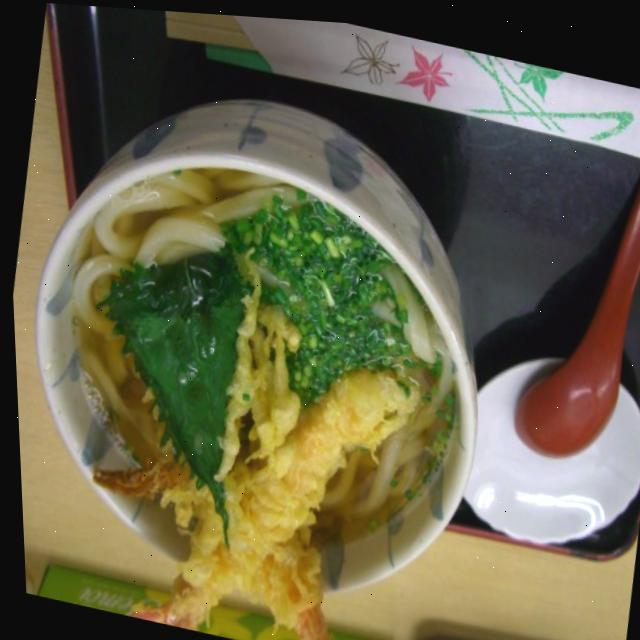面条主食: (12, 103, 499, 640)
